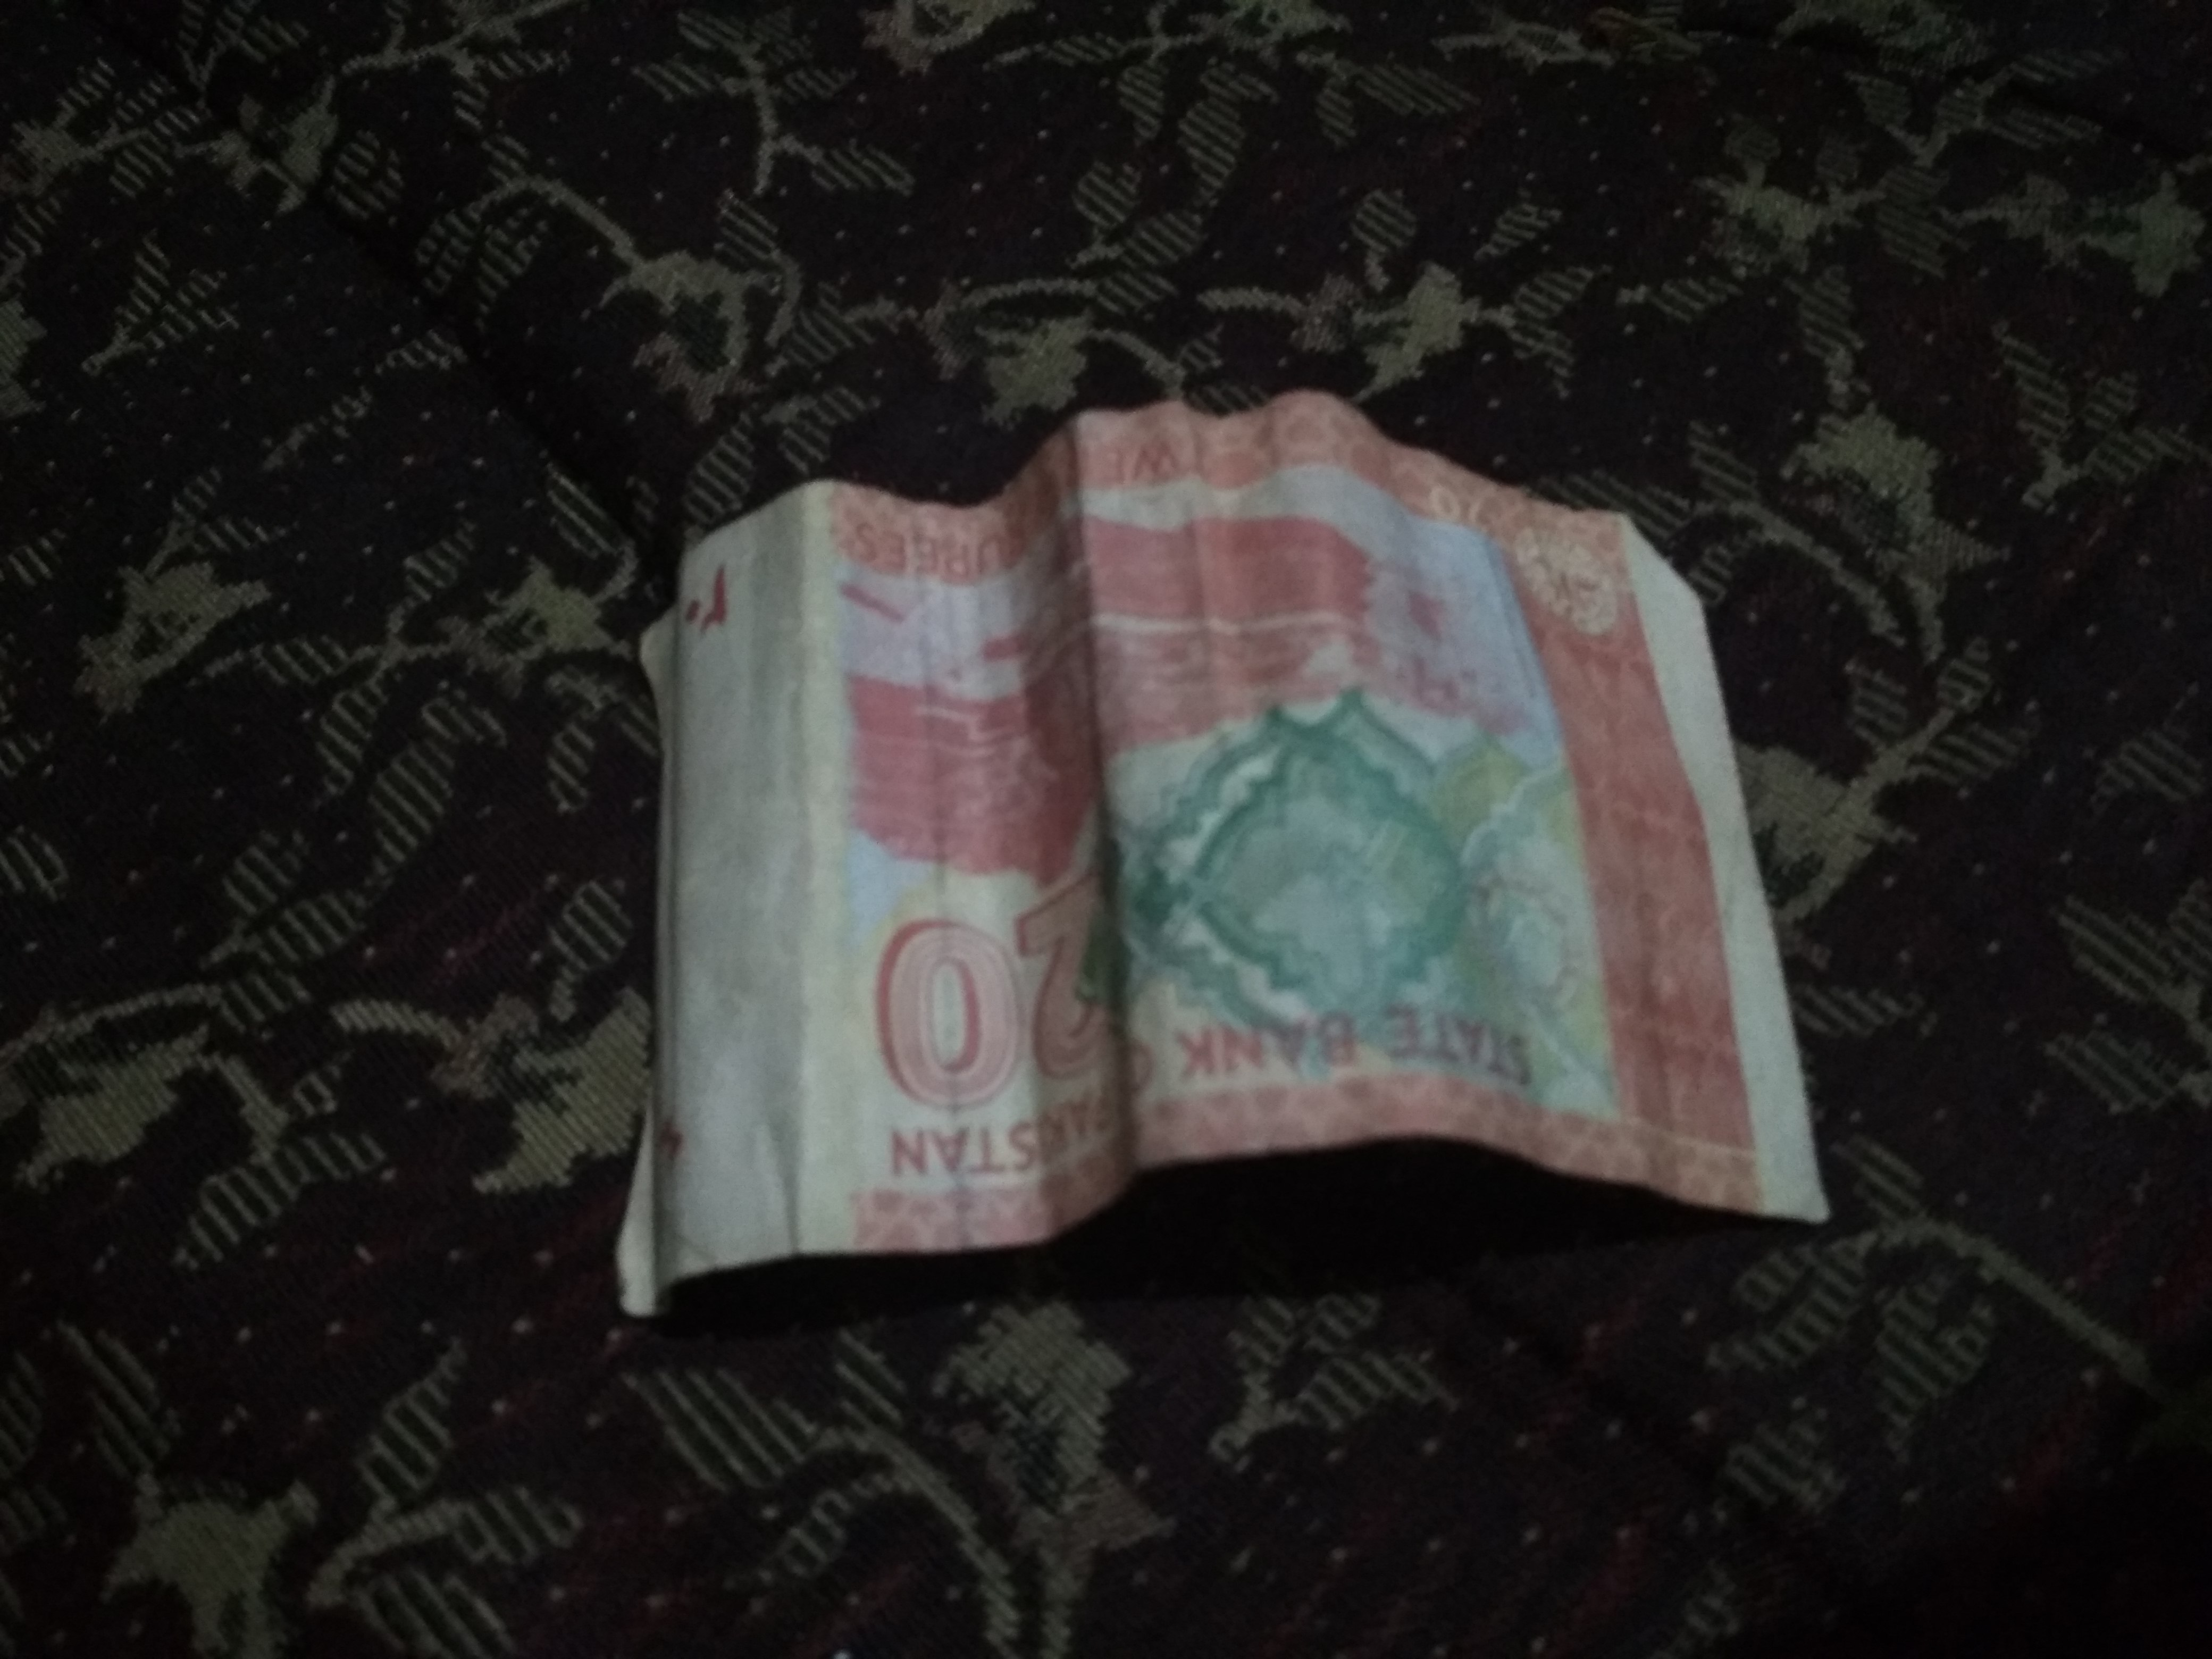20 rupee: (615, 403, 1911, 1342)
